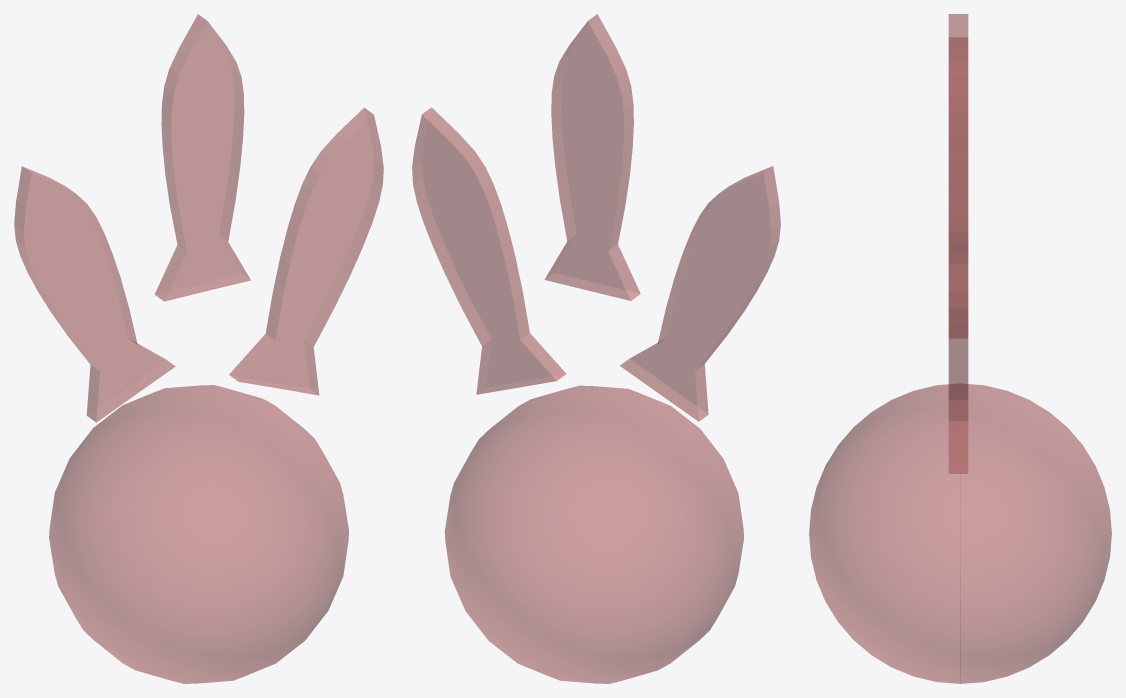
File: powerup_missiles.fbx
The picture shows the model from 3 angles, left to right: view 1: azimuth 30°, elevation 25°; view 2: azimuth 150°, elevation 25°; view 3: azimuth 270°, elevation 25°; orthographic projection.
Parts seen in each view (by area): view 1: polySurface9; view 2: polySurface9; view 3: polySurface9.
Part boxes in pixels (x1,y1,x2,y2): polySurface9: (14, 14, 383, 683); polySurface9: (412, 14, 780, 683); polySurface9: (809, 14, 1111, 683).
Size of the model in its own units: 4.57 by 7.92 by 3.3.
